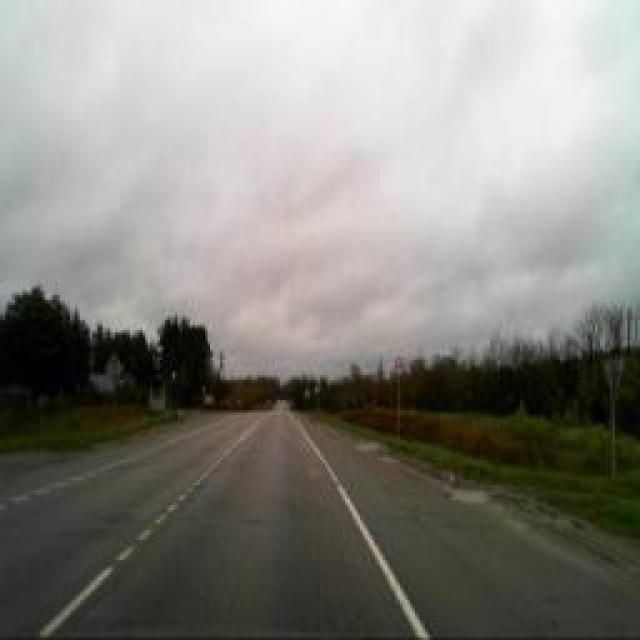sign: (393, 356, 405, 376)
